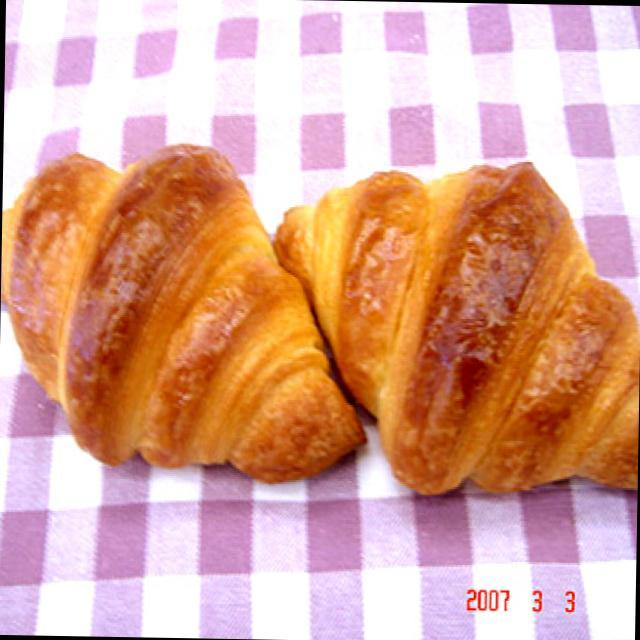Croissant: (0, 130, 376, 481), (275, 141, 640, 502)
